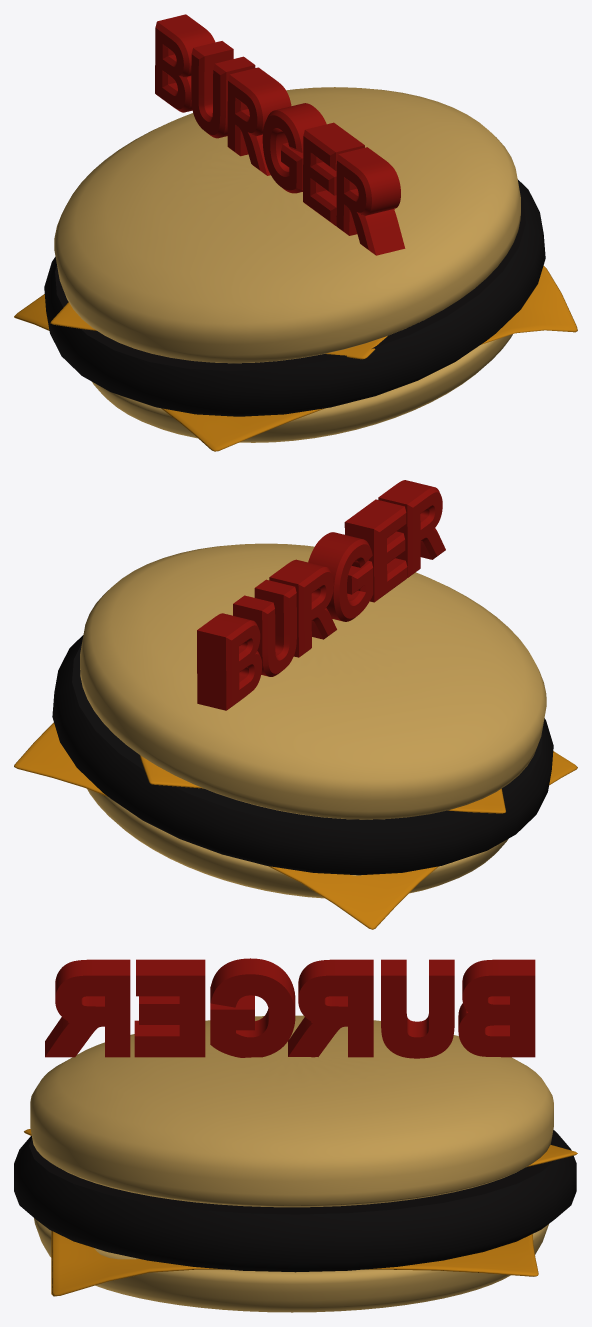
Rendered from Burger_store_brand.FBX.
3 renders of one model, top to bottom at view 1: azimuth 30°, elevation 25°; view 2: azimuth 150°, elevation 25°; view 3: azimuth 270°, elevation 25°, orthographic. The views are drawn at different scales.
Visible parts, largest first — view 1: Cylinder006, Cylinder007, TextPlus004, Cylinder005, Box001, Box002; view 2: Cylinder006, Cylinder007, TextPlus004, Box001, Cylinder005, Box002; view 3: Cylinder006, TextPlus004, Cylinder007, Cylinder005, Box001, Box002.
Part boxes in pixels (box(x1,y1,x2,y2)): Cylinder006: box(54, 87, 520, 363); Cylinder007: box(44, 179, 545, 416); TextPlus004: box(155, 14, 405, 255); Cylinder005: box(92, 334, 512, 442); Box001: box(14, 265, 577, 451); Box002: box(50, 302, 387, 359); Cylinder006: box(80, 543, 546, 819); Cylinder007: box(52, 635, 553, 875); TextPlus004: box(197, 480, 445, 710); Box001: box(14, 722, 577, 929); Cylinder005: box(87, 789, 508, 898); Box002: box(140, 755, 505, 813); Cylinder006: box(30, 1015, 553, 1207); TextPlus004: box(45, 958, 535, 1058); Cylinder007: box(14, 1130, 576, 1272); Cylinder005: box(34, 1218, 548, 1312); Box001: box(51, 1231, 538, 1296); Box002: box(24, 1129, 577, 1166).
Bounding box in the file's own units: 203 × 122 × 202.
